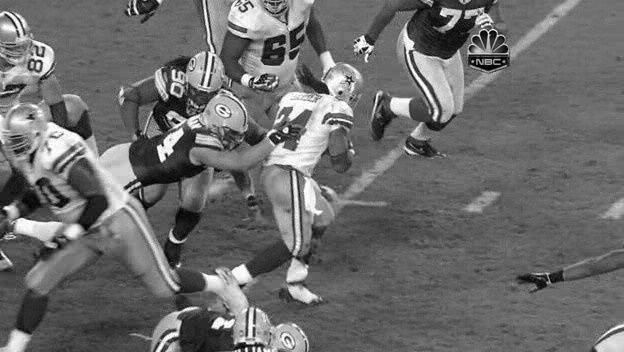person: (326, 63, 362, 108), (325, 63, 361, 108), (327, 63, 363, 108), (326, 62, 362, 107), (326, 64, 362, 109)
target_negative: (58, 57, 261, 313), (337, 170, 541, 327), (265, 265, 491, 319), (425, 180, 532, 241), (244, 93, 321, 113), (174, 345, 268, 348)
